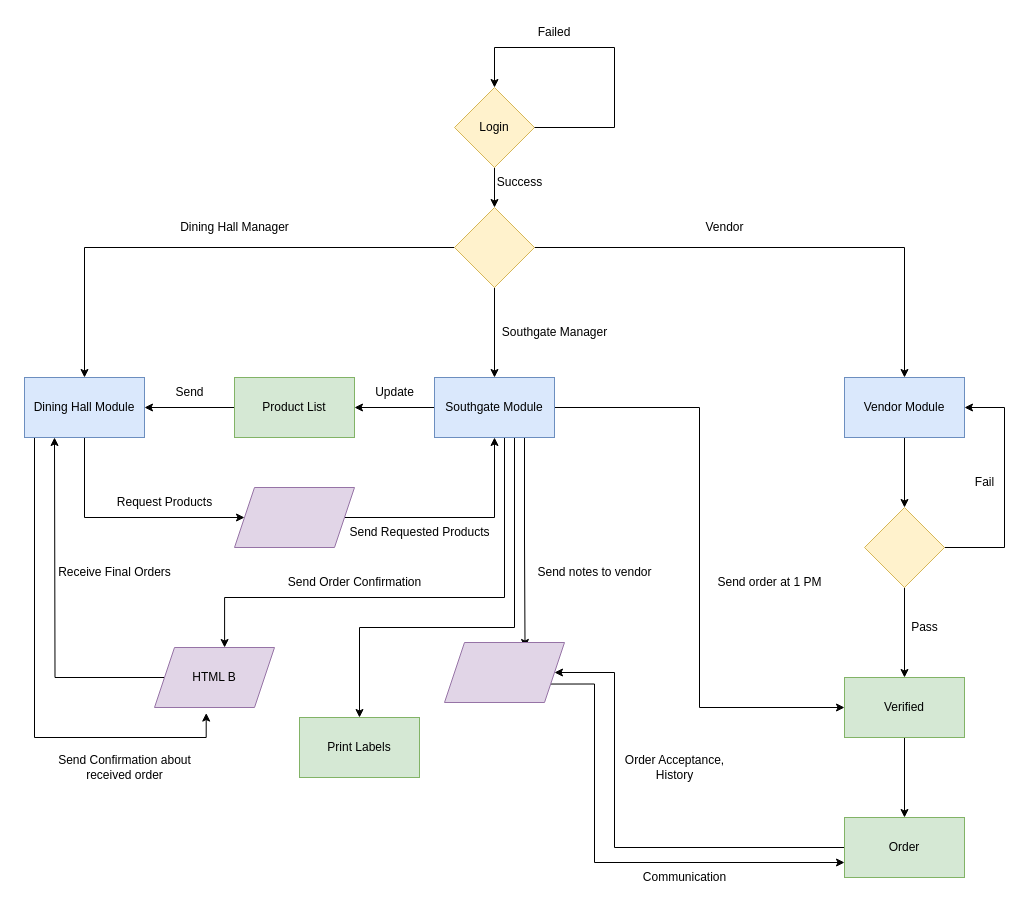
This 1030x909 diagram has some shape labels left out. Here are the shapes that lost their labels. From the top down, the box of each, then its label:
(454, 206, 534, 288): Role
(234, 486, 354, 548): HTML Form A
(864, 506, 944, 588): Verification
(444, 642, 564, 702): HTML UI
